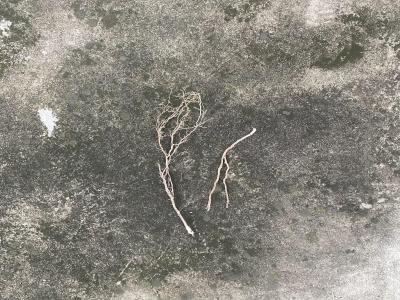Root: (206, 128, 256, 211), (158, 164, 194, 235)
